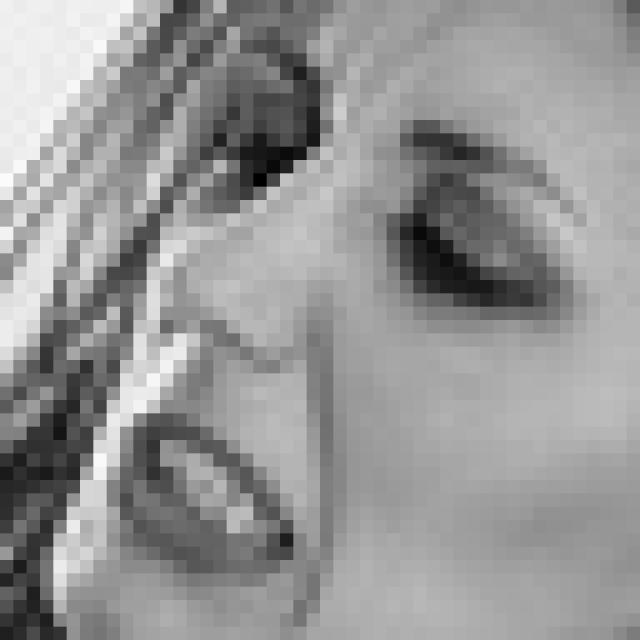disgust: (114, 40, 591, 590)
